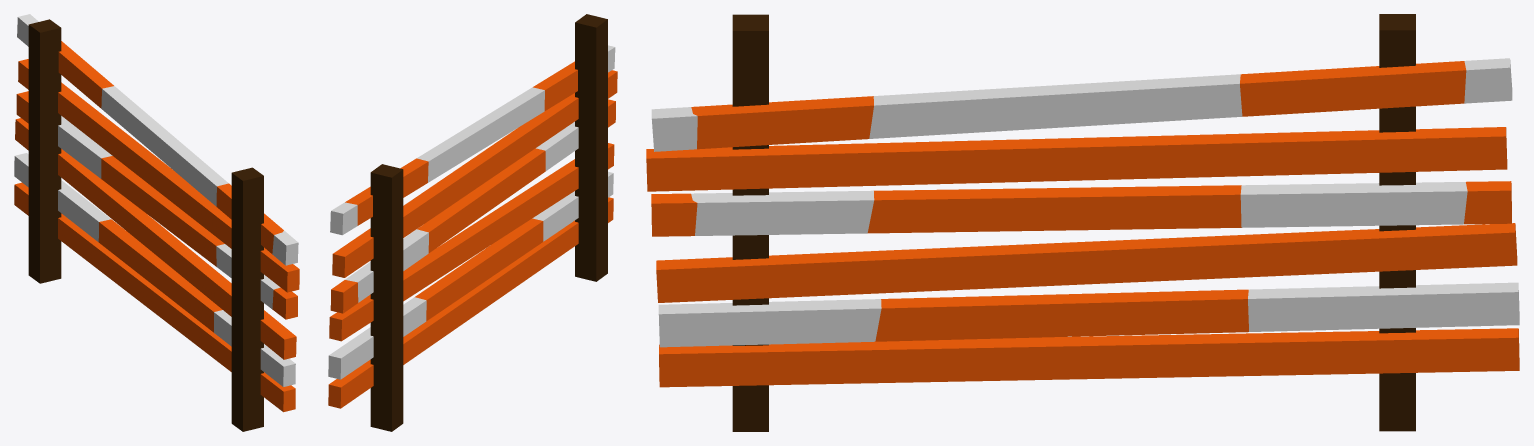
The model's file is valla.fbx.
3 views of the same model, side by side, from view 1: azimuth 30°, elevation 25°; view 2: azimuth 150°, elevation 25°; view 3: azimuth 270°, elevation 25° (orthographic). The views are drawn at different scales.
Visible parts, largest first — view 1: Cube.001, Cube, Cube.002, Cube.007, Cube.005, Cube.008, Cube.006, Cube.009; view 2: Cube.001, Cube, Cube.008, Cube.005, Cube.006, Cube.002, Cube.007, Cube.009; view 3: Cube.002, Cube.008, Cube.007, Cube.006, Cube.005, Cube.009, Cube, Cube.001.
Boxes of the visible parts, x1,y1,x2,y2 form: Cube.001: (28,19,61,283); Cube: (231,167,263,431); Cube.002: (17,14,298,265); Cube.007: (15,118,296,359); Cube.005: (18,59,299,292); Cube.008: (14,153,295,386); Cube.006: (16,91,297,319); Cube.009: (14,182,295,412); Cube.001: (370,164,403,431); Cube: (575,14,607,281); Cube.008: (328,171,613,379); Cube.005: (332,70,617,277); Cube.006: (330,99,615,313); Cube.002: (330,45,615,235); Cube.007: (329,143,614,341); Cube.009: (328,197,613,408); Cube.002: (651,58,1512,151); Cube.008: (658,282,1519,347); Cube.007: (656,223,1517,302); Cube.006: (651,181,1511,236); Cube.005: (646,127,1507,191); Cube.009: (659,328,1519,387); Cube: (732,14,768,431); Cube.001: (1379,14,1415,431).
Bounding box in the file's own units: 43.31 × 338 × 667.
